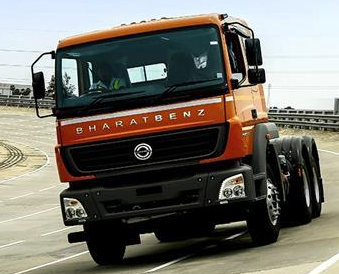truck: (31, 13, 324, 267)
